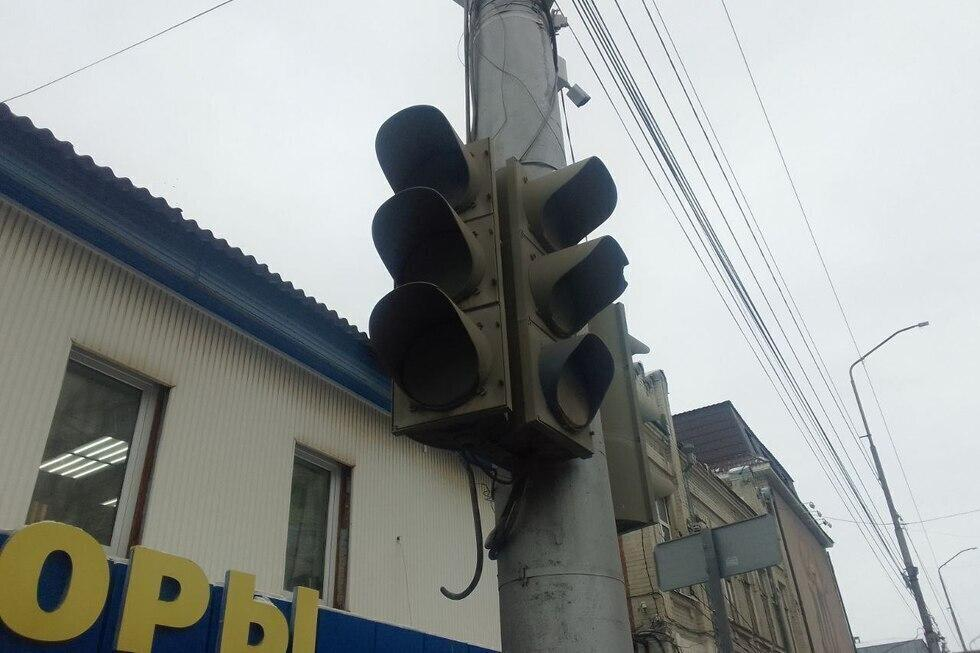off traffic light: (369, 105, 511, 450), (498, 157, 628, 457)
